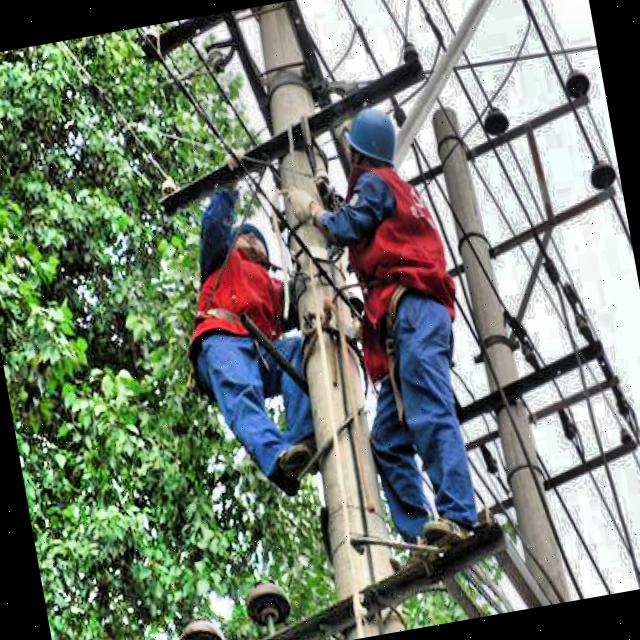helmet: (337, 97, 411, 184), (225, 208, 275, 272)
